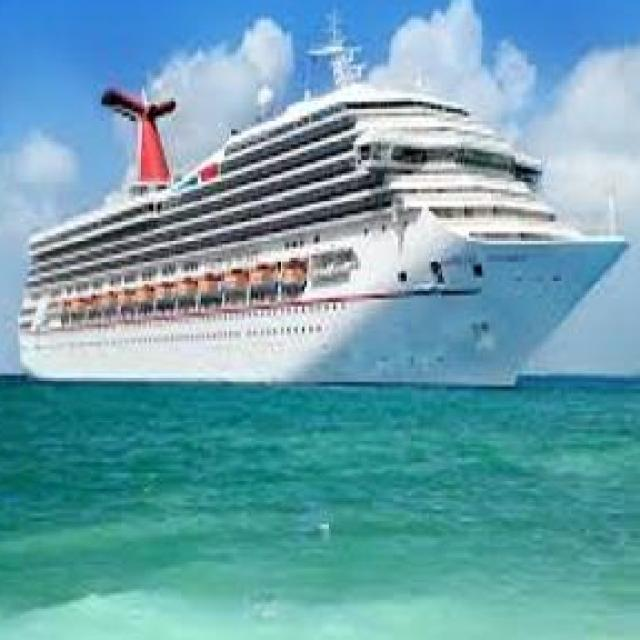passenger ship: (13, 12, 616, 396)
